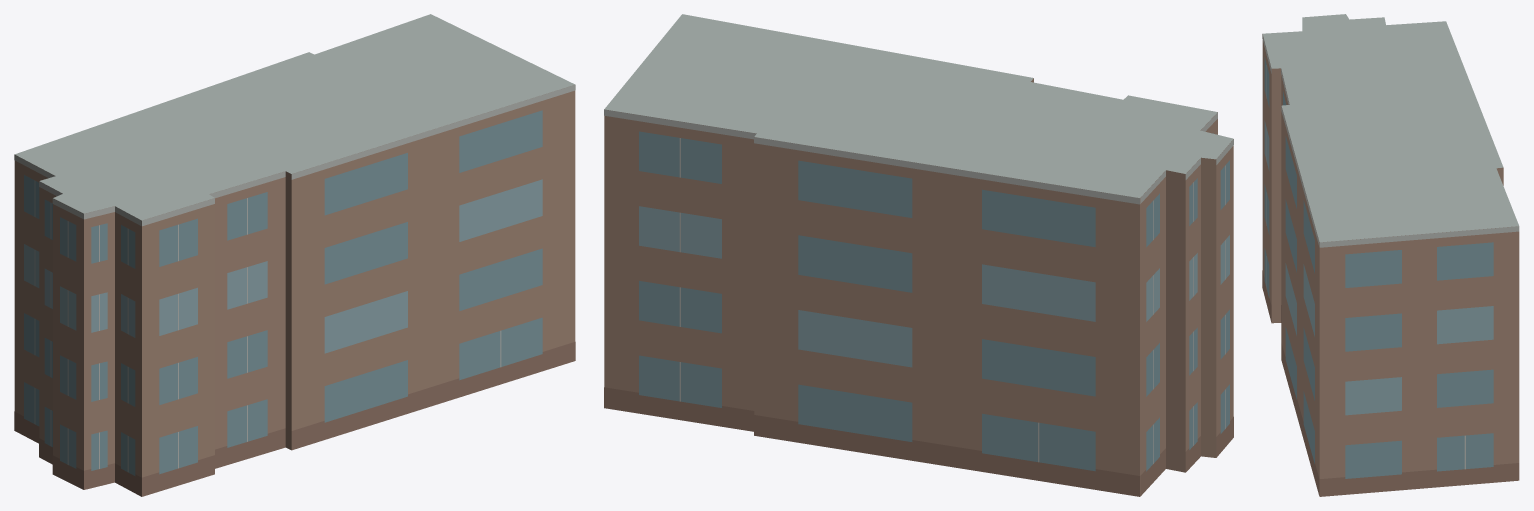
The model's file is survey-upis-33028626.glb.
The picture shows the model from 3 angles, left to right: view 1: azimuth 30°, elevation 25°; view 2: azimuth 150°, elevation 25°; view 3: azimuth 270°, elevation 25°; orthographic projection. The views are drawn at different scales.
Visible parts, largest first — view 1: survey-upis-33028626.tmp; view 2: survey-upis-33028626.tmp; view 3: survey-upis-33028626.tmp.
Part boxes in pixels (box(x1,y1,x2,y2)): survey-upis-33028626.tmp: box(14, 14, 575, 496); survey-upis-33028626.tmp: box(604, 14, 1233, 496); survey-upis-33028626.tmp: box(1262, 14, 1519, 496).
Bounding box in the file's own units: 22.15 × 11.5 × 10.53.
